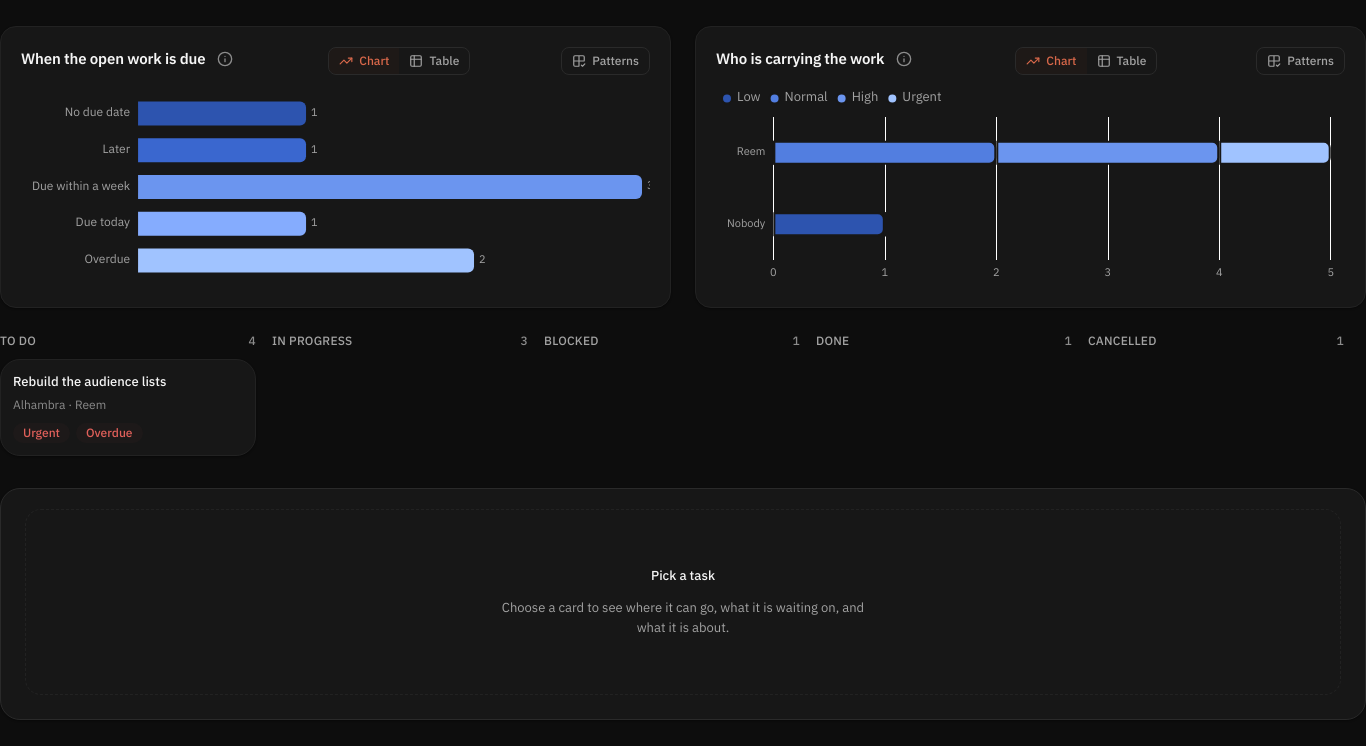
Test: a task › offers only the moves the server allows
(page scrolled)
Step 1. Click the button "Rebuild the audience lists Alhambra · Reem Urgent Overdue" → {"x": 128, "y": 407}, box [0, 359, 256, 456]
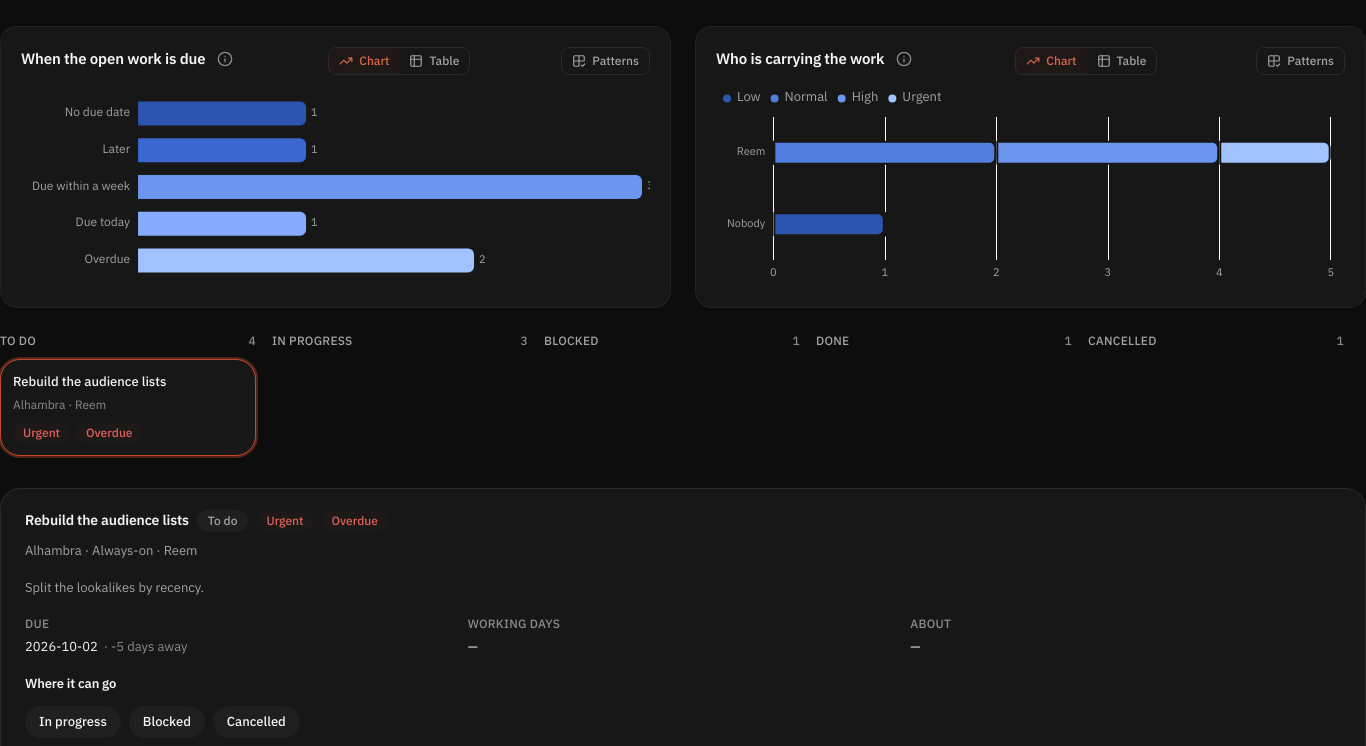
Result: the button "In progress" is shown at [25, 706, 121, 738]
Result: the button "Blocked" is shown at [129, 706, 205, 738]
